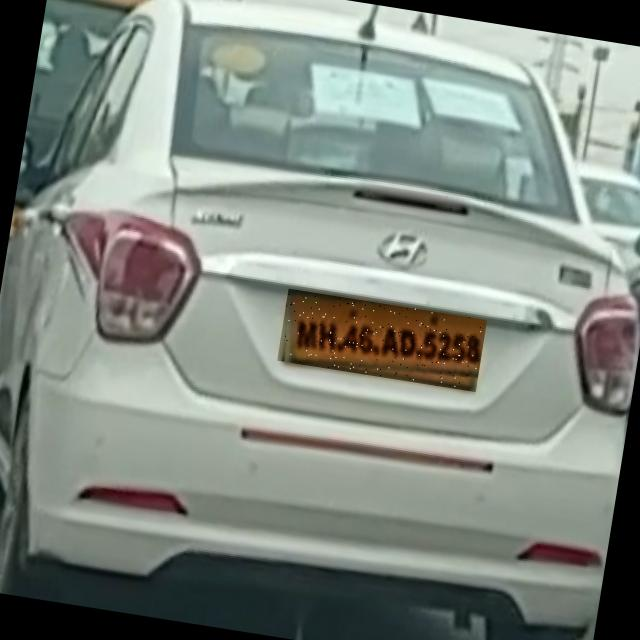Plate: (278, 290, 488, 394)
